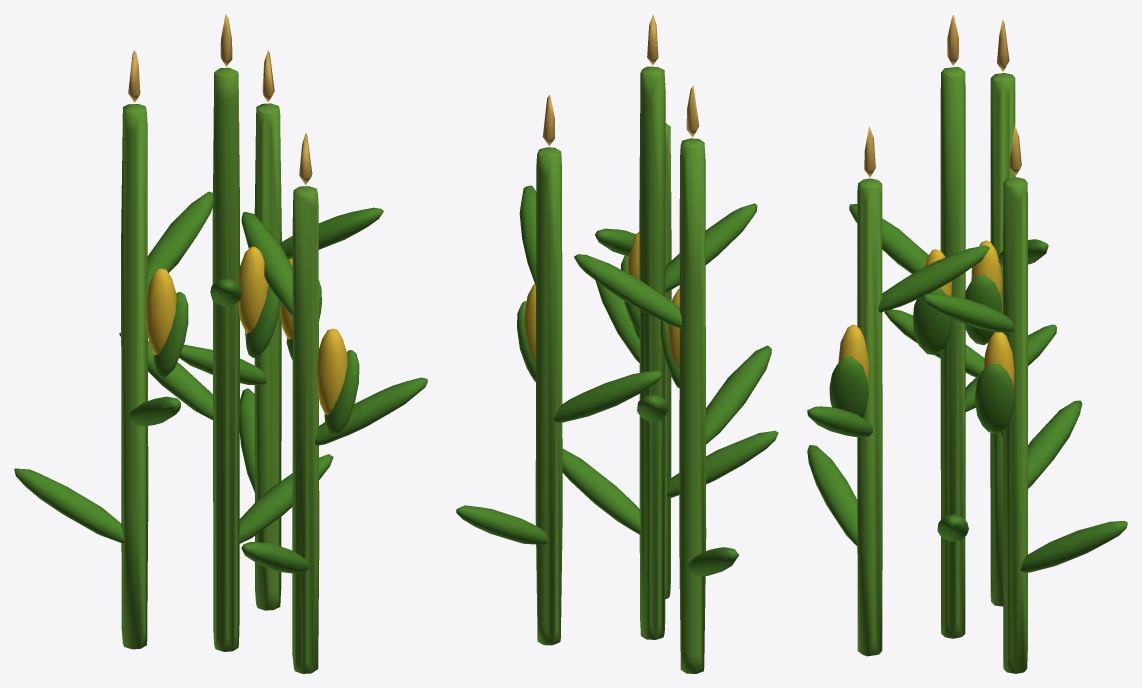
Rendered from Maisstaude.fbx.
3 renders of one model, left to right at view 1: azimuth 30°, elevation 25°; view 2: azimuth 150°, elevation 25°; view 3: azimuth 270°, elevation 25°, orthographic. The views are drawn at different scales.
Parts seen in each view (by area): view 1: Maisstaude; view 2: Maisstaude; view 3: Maisstaude.
Part boxes in pixels (box(x1,y1,x2,y2)): Maisstaude: box(14, 14, 427, 673); Maisstaude: box(456, 14, 778, 673); Maisstaude: box(807, 14, 1127, 673).
Bounding box in the file's own units: 0.7929 × 1.65 × 0.7711.
